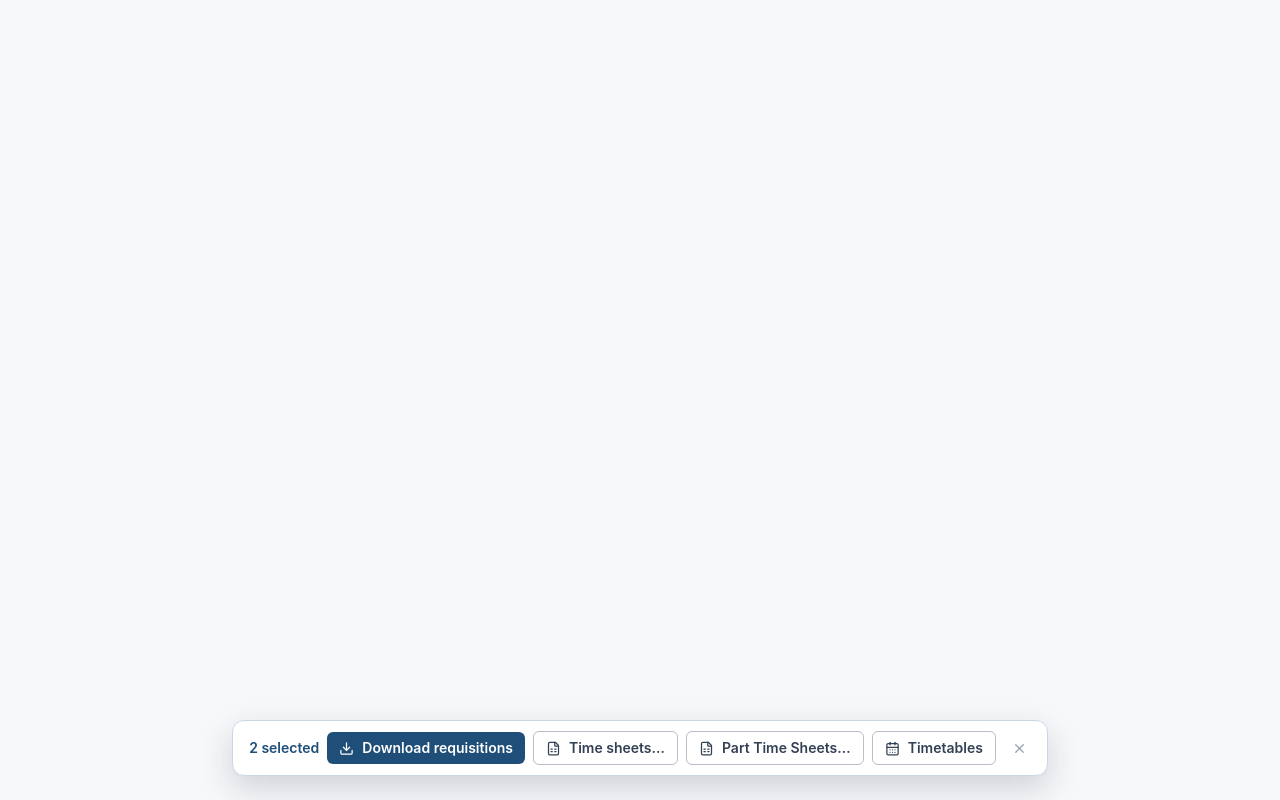
a teacher whose period is paid at two rates › counts their sheets, not their period, in what the zip will hold
The image size is (1280, 800).
Click the button "Part Time Sheets…" at (775, 748), box [686,731,864,765]
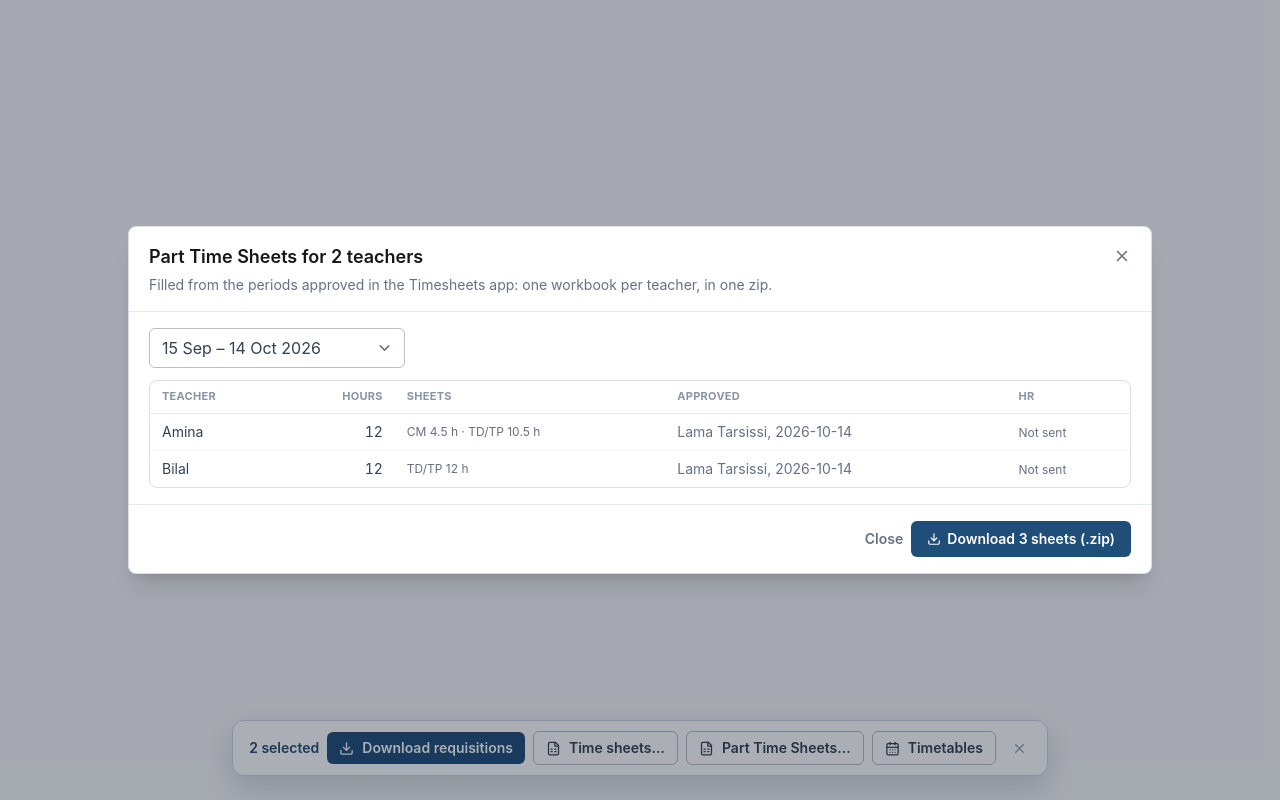
Now the text "CM 4.5 h · TD/TP 10.5 h" is shown, box [395,413,665,450]
Now the button "Download 3 sheets (.zip)" is shown, box [911,521,1131,557]
